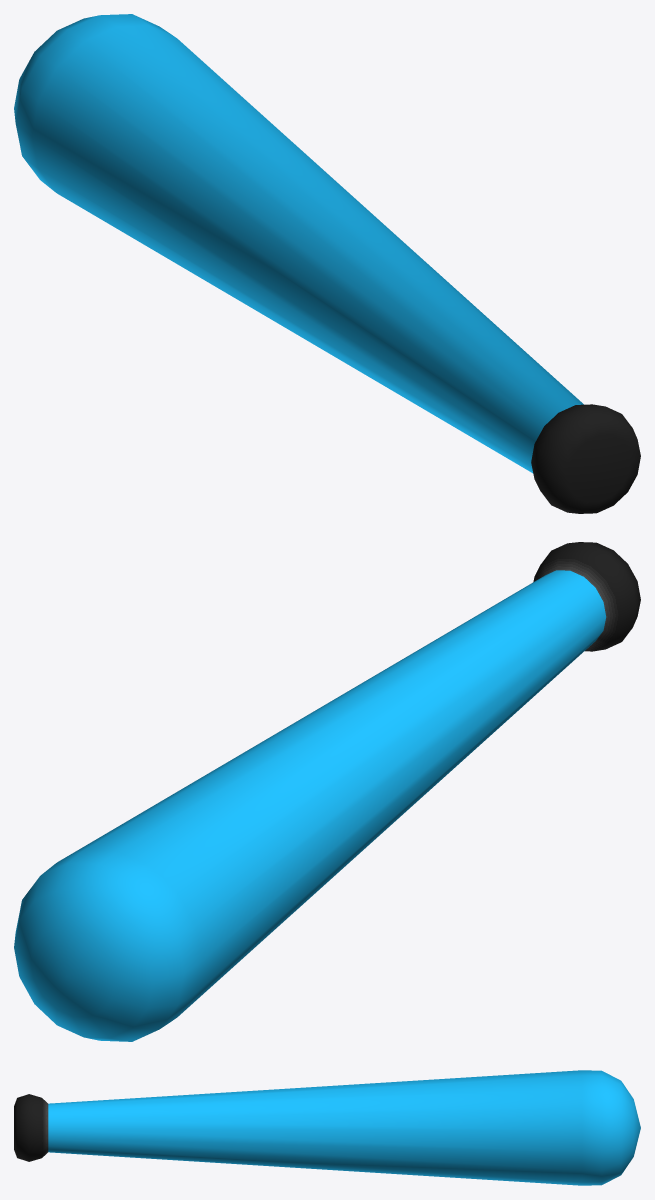
File: Bit Blue.fbx
The picture shows the model from 3 angles, top to bottom: view 1: azimuth 30°, elevation 25°; view 2: azimuth 150°, elevation 25°; view 3: azimuth 270°, elevation 25°; orthographic projection. The views are drawn at different scales.
Visible parts, largest first — view 1: Bit Blue; view 2: Bit Blue; view 3: Bit Blue.
Boxes of the visible parts, left/top/right/bottom form: Bit Blue: left=14, top=14, right=640, bottom=513; Bit Blue: left=14, top=542, right=640, bottom=1041; Bit Blue: left=14, top=1070, right=640, bottom=1185.
Bounding box in the file's own units: 32.23 × 32.23 × 175.
